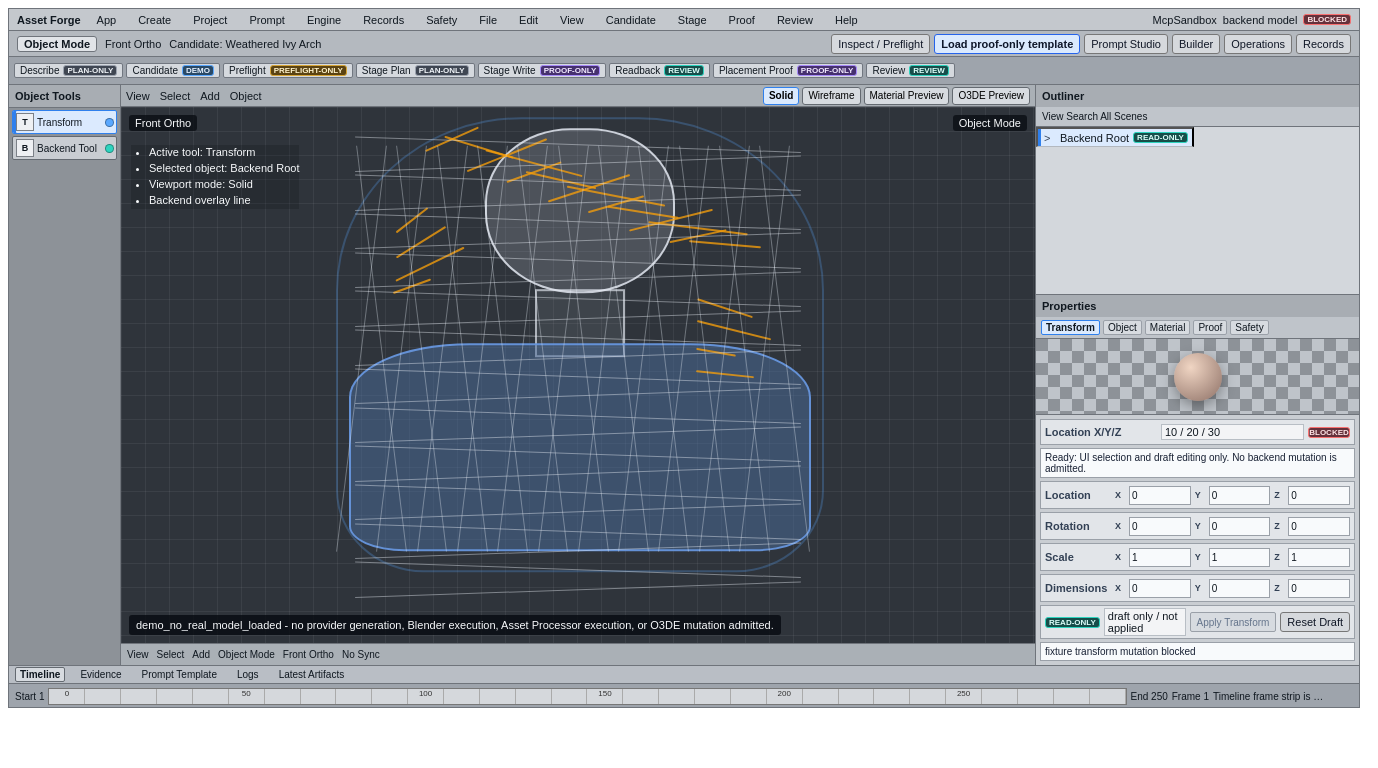
Test: AssetForgeBlenderCockpit › shows backend prompt-template safety labels before Prompt Studio handoff
Click the button "Proof" below "Properties" at point(1210, 328), box top-left (1193, 320), bottom-right (1227, 335)
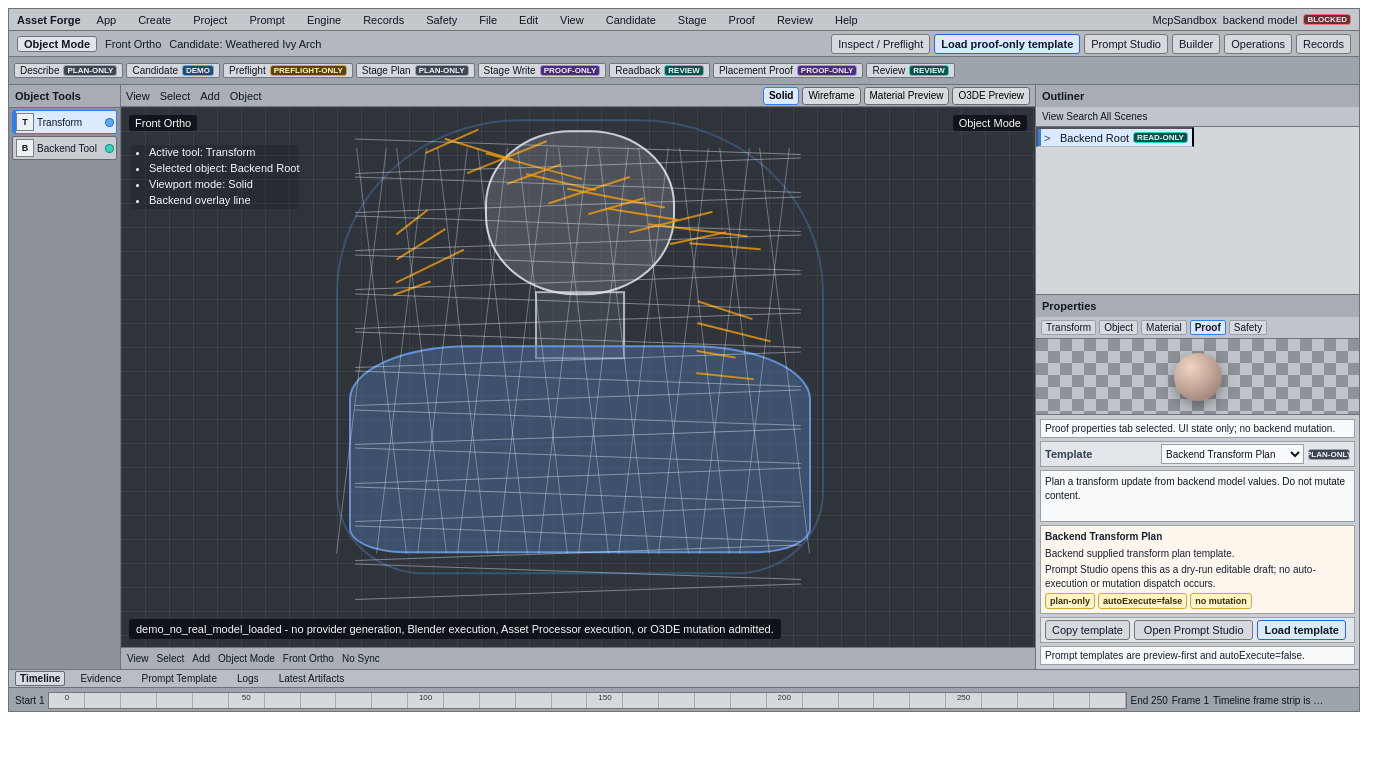
Expected: the element named "Prompt template handoff safety summary" shows "Backend Transform Plan", top-left (1045, 531), bottom-right (1162, 542)
Expected: the element named "Prompt template handoff safety summary" shows "Backend supplied transform plan template.", top-left (1045, 548), bottom-right (1235, 558)
Expected: the element named "Prompt template handoff safety summary" shows "plan-only", top-left (1050, 596), bottom-right (1090, 606)
